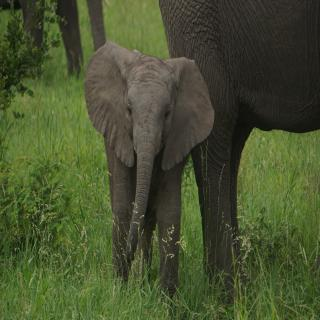Elephant: (80, 37, 218, 297)
